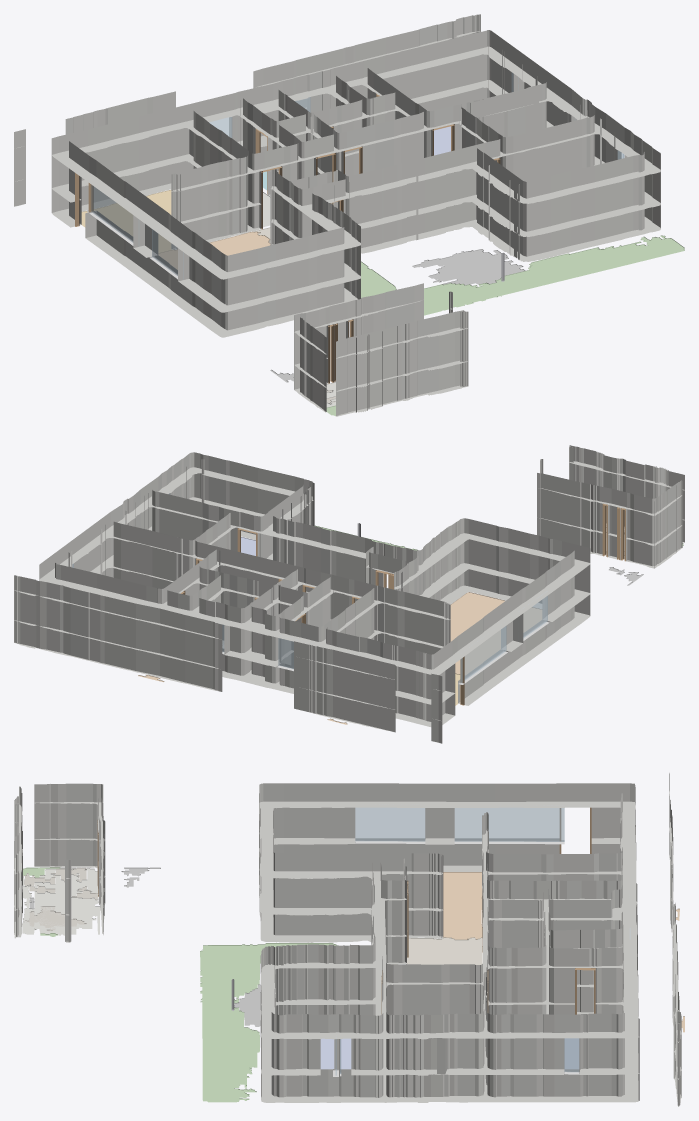
3 renders of one model, top to bottom at view 1: azimuth 30°, elevation 25°; view 2: azimuth 150°, elevation 25°; view 3: azimuth 270°, elevation 25°, orthographic. The views are drawn at different scales.
Parts seen in each view (by area): view 1: walls, floor_2_Outdoor, floor_24_Garage, floor_3_Kitchen, window_20, floor_5_Living_Room, window_22; view 2: walls, floor_5_Living_Room, window_20, window_22; view 3: walls, floor_2_Outdoor, window_20, floor_25_Undefined, floor_5_Living_Room, window_22, floor_14_Entry, floor_8_Bed_Room, floor_16_Storage, floor_24_Garage, window_19.
Part boxes in pixels (left/top/right/bottom): walls: left=14, top=14, right=660, bottom=416; floor_2_Outdoor: left=361, top=235, right=684, bottom=315; floor_24_Garage: left=412, top=249, right=525, bottom=285; floor_3_Kitchen: left=81, top=190, right=171, bottom=252; window_20: left=91, top=184, right=133, bottom=242; floor_5_Living_Room: left=158, top=231, right=270, bottom=269; window_22: left=152, top=229, right=183, bottom=279; walls: left=14, top=445, right=684, bottom=743; floor_5_Living_Room: left=450, top=592, right=541, bottom=675; window_20: left=460, top=626, right=506, bottom=683; window_22: left=518, top=591, right=547, bottom=641; walls: left=14, top=773, right=681, bottom=1106; floor_2_Outdoor: left=200, top=943, right=338, bottom=1102; window_20: left=454, top=807, right=564, bottom=841; floor_25_Undefined: left=22, top=867, right=100, bottom=935; floor_5_Living_Room: left=443, top=872, right=482, bottom=939; window_22: left=355, top=807, right=425, bottom=841; floor_14_Entry: left=388, top=937, right=482, bottom=964; floor_8_Bed_Room: left=320, top=1038, right=351, bottom=1069; floor_16_Storage: left=25, top=906, right=86, bottom=931; floor_24_Garage: left=234, top=984, right=260, bottom=1026; window_19: left=564, top=1038, right=579, bottom=1072.
Size of the model in its own units: 17.8 by 2.72 by 19.98.
